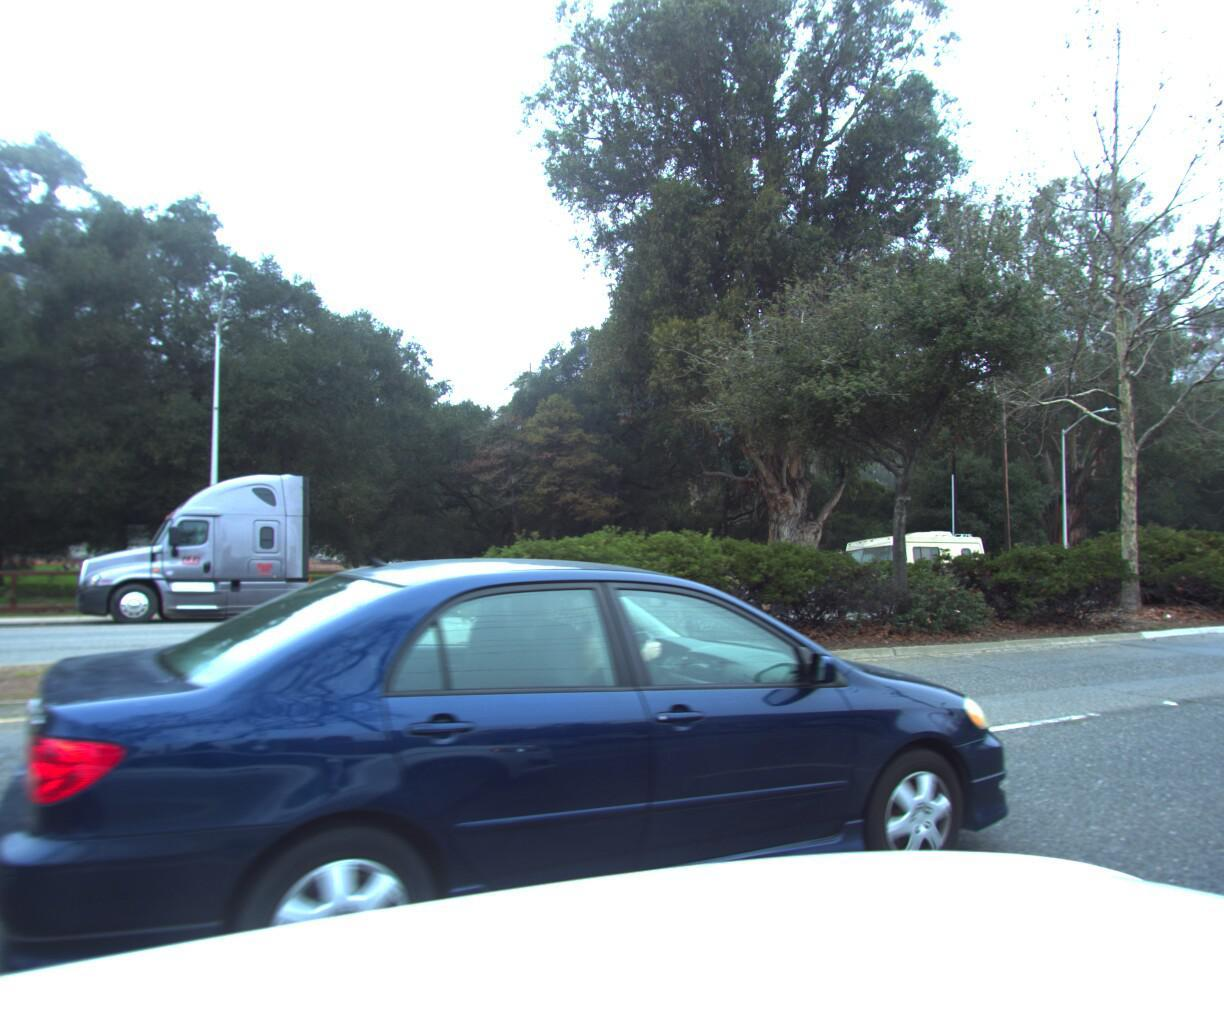car: (0, 542, 1075, 1024), (429, 552, 603, 622)
other_vehicle: (821, 522, 990, 607)
truck: (64, 455, 426, 633)
